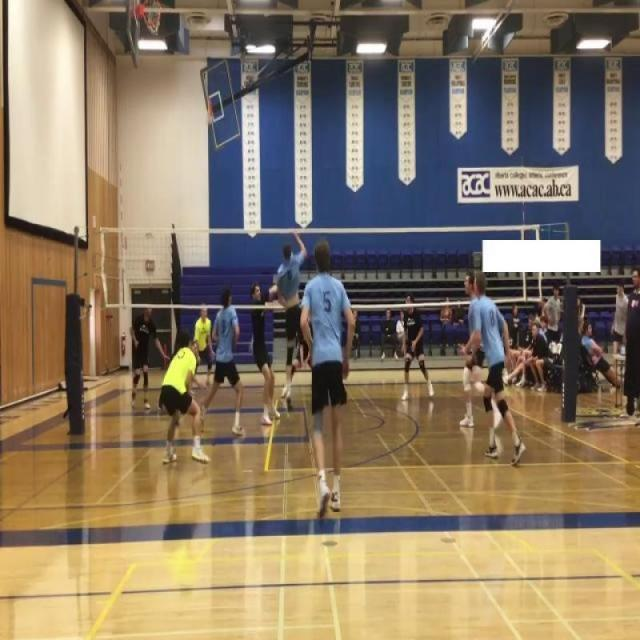volleyball: (248, 334, 255, 357)
